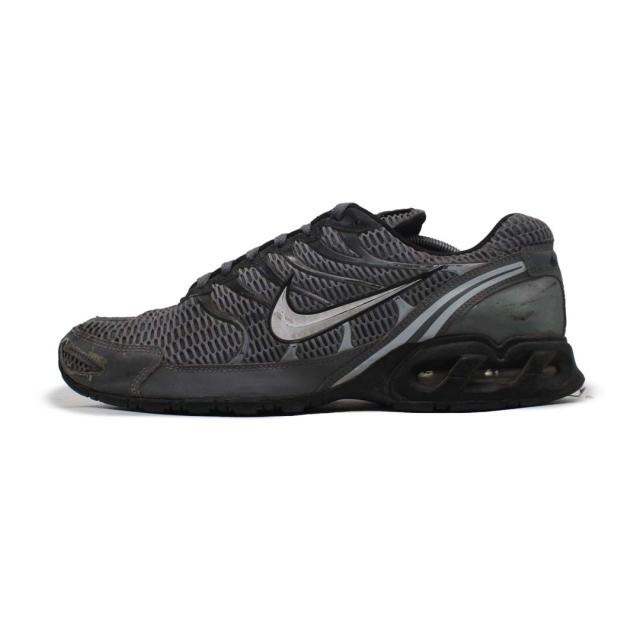heel: (521, 206, 580, 342)
midsole: (59, 351, 599, 418)
uppersole: (39, 232, 522, 364)
